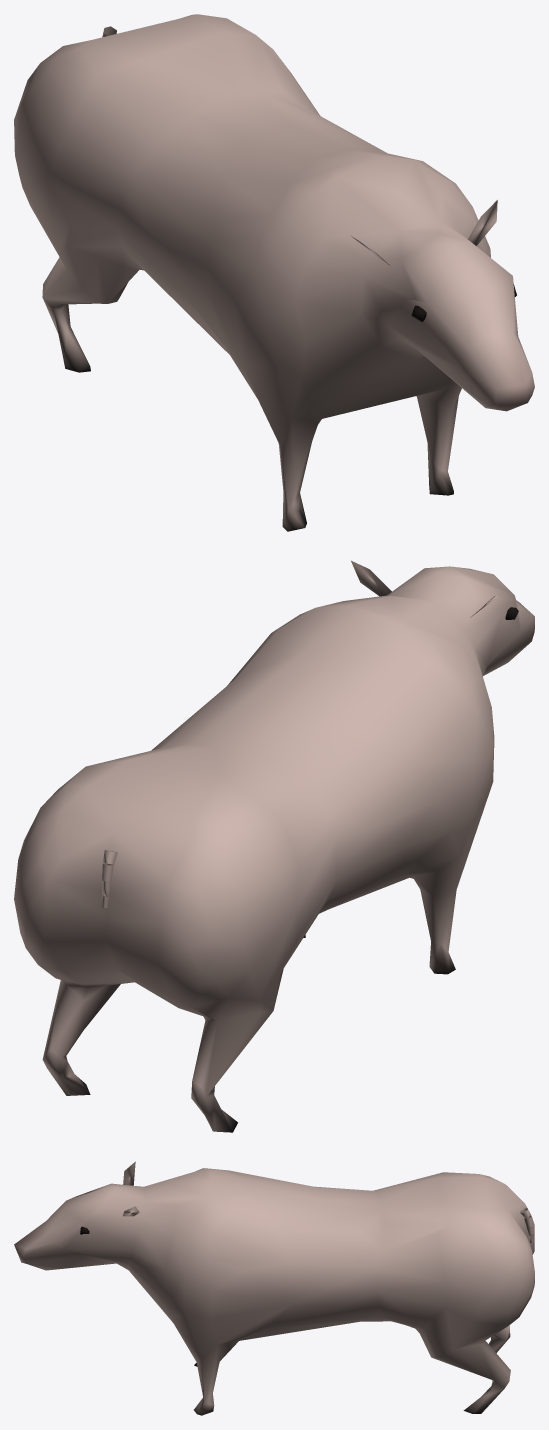
The model's file is schwein.glb.
3 renders of one model, top to bottom at view 1: azimuth 30°, elevation 25°; view 2: azimuth 150°, elevation 25°; view 3: azimuth 270°, elevation 25°, orthographic. The views are drawn at different scales.
Parts seen in each view (by area): view 1: lack; view 2: lack; view 3: lack.
Boxes of the visible parts, x1,y1,x2,y2 form: lack: (14,14,534,531); lack: (14,560,534,1132); lack: (14,1161,534,1415).
Bounding box in the file's own units: 0.609 × 0.8124 × 1.79.
